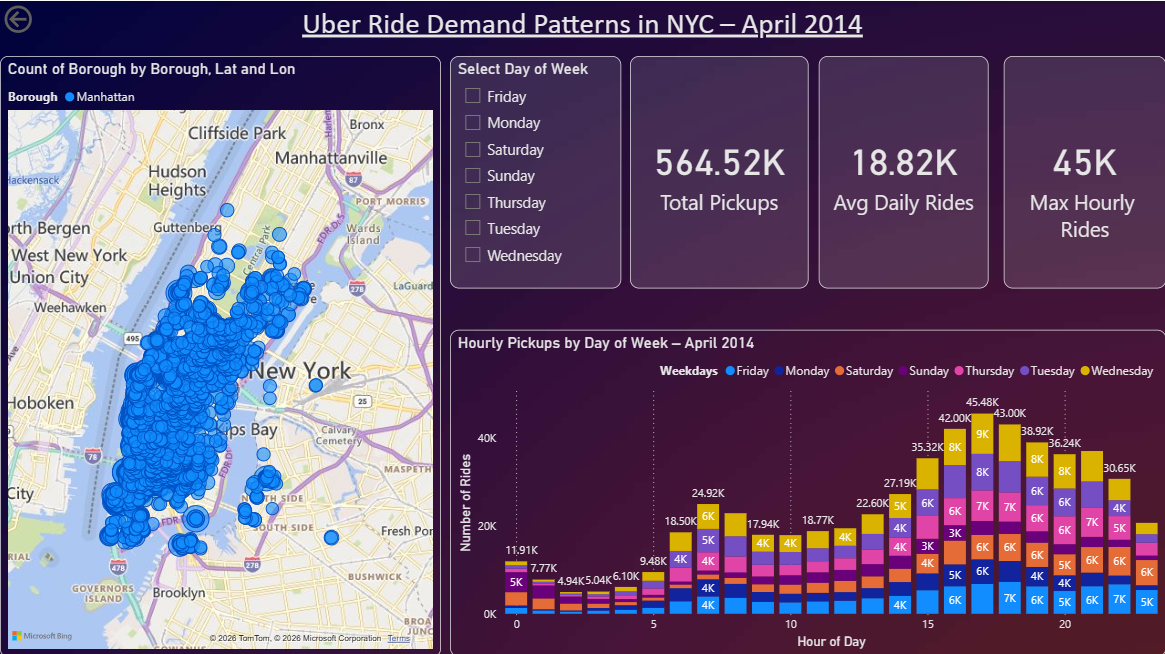

The page's visual inventory and layout, read from the dashboard file:
{"tool":"powerbi","page":{"name":"Page 1","canvas":[1280,720],"ordinal":0},"visuals":[{"type":"map","fields":{"Y":["uber-raw-data-apr14.Lat"],"X":["uber-raw-data-apr14.Lon"],"Series":["uber-raw-data-apr14.Borough"],"Size":["CountNonNull(uber-raw-data-apr14.Borough)"]},"box":[0,60.4,484.4,660],"z":0},{"type":"columnChart","title":"Hourly Pickups by Day of Week – April 2014","fields":{"Category":["uber-raw-data-apr14.Hour"],"Series":["uber-raw-data-apr14.Weekdays"],"Y":["CountNonNull(uber-raw-data-apr14.Total Pickups)"]},"box":[494,360.9,786.3,359.5],"z":1000},{"type":"slicer","title":"Select Day of Week","fields":{"Values":["uber-raw-data-apr14.Weekdays"]},"box":[494,60.4,188,255.2],"z":2000},{"type":"card","fields":{"Values":["CountNonNull(uber-raw-data-apr14.Total Rides)"]},"box":[691.6,60.4,196.2,255.2],"z":3000},{"type":"card","fields":{"Values":["Avg(uber-raw-data-apr14.Avg Pickups per Day)"]},"box":[898.8,60.4,186.6,255.2],"z":4000},{"type":"textbox","box":[290.9,0,697.1,49.4],"z":5000},{"type":"card","fields":{"Values":["uber-raw-data-apr14.Max Hourly Rides"]},"box":[1101.9,60.4,178.4,255.2],"z":5001},{"type":"actionButton","box":[0,0,100,40],"z":5002}]}

Visuals, with their boxes in screenshot pixels (x1, y1, x2, y2), scaled from the page's 1280x720 canvas onto the 1165x654 screenshot:
map - uber-raw-data-apr14.Lat x uber-raw-data-apr14.Lon: BBox(0, 55, 441, 653)
"Hourly Pickups by Day of Week – April 2014" columnChart: BBox(450, 328, 1164, 653)
"Select Day of Week" slicer: BBox(450, 55, 621, 287)
card - CountNonNull(uber-raw-data-apr14.Total Rides): BBox(629, 55, 808, 287)
card - Avg(uber-raw-data-apr14.Avg Pickups per Day): BBox(818, 55, 988, 287)
textbox: BBox(265, 0, 899, 45)
card - uber-raw-data-apr14.Max Hourly Rides: BBox(1003, 55, 1164, 287)
actionButton: BBox(0, 0, 91, 36)
